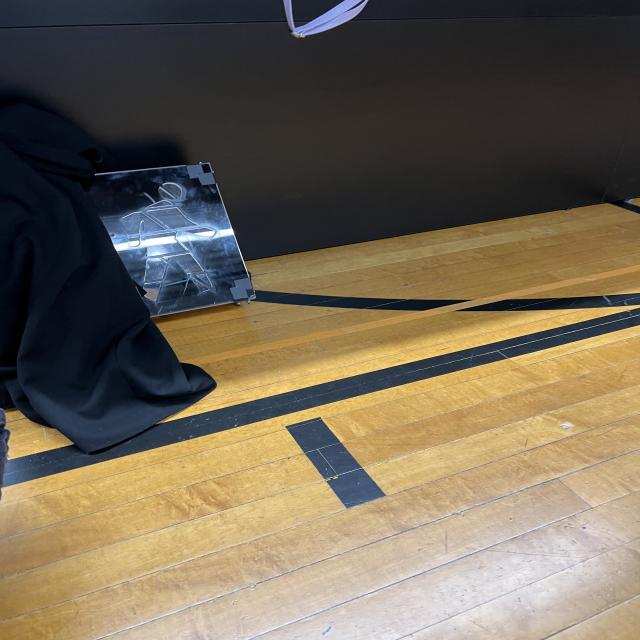go: (74, 163, 256, 316)
